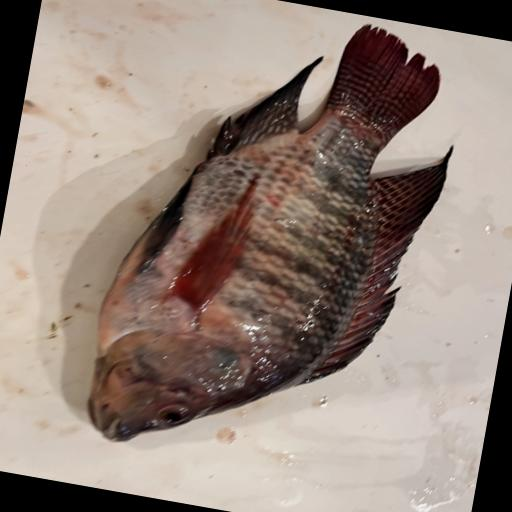Tilapia: (77, 0, 471, 491)
